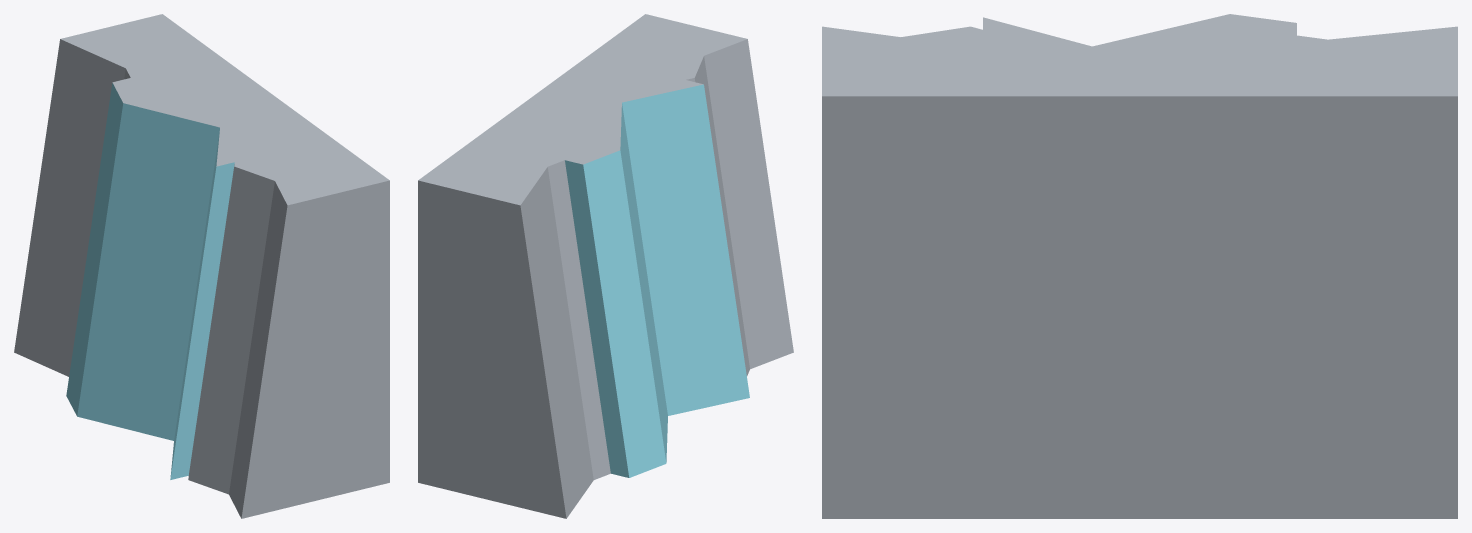
Rendered from Grey_Waterfall_Bottom_01.obj.
3 renders of one model, left to right at view 1: azimuth 30°, elevation 25°; view 2: azimuth 150°, elevation 25°; view 3: azimuth 270°, elevation 25°, orthographic. The views are drawn at different scales.
Visible parts, largest first — view 1: Mesh1_Grey_Waterfall_Model.001; view 2: Mesh1_Grey_Waterfall_Model.001; view 3: Mesh1_Grey_Waterfall_Model.001.
Boxes of the visible parts, <box> form: Mesh1_Grey_Waterfall_Model.001: <box>14,14,389,518</box>; Mesh1_Grey_Waterfall_Model.001: <box>418,14,793,518</box>; Mesh1_Grey_Waterfall_Model.001: <box>822,14,1457,518</box>.
Bounding box in the file's own units: 1.27 × 2.2 × 3.
